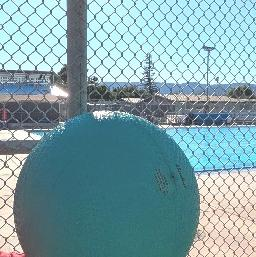algae: (7, 108, 202, 257)
